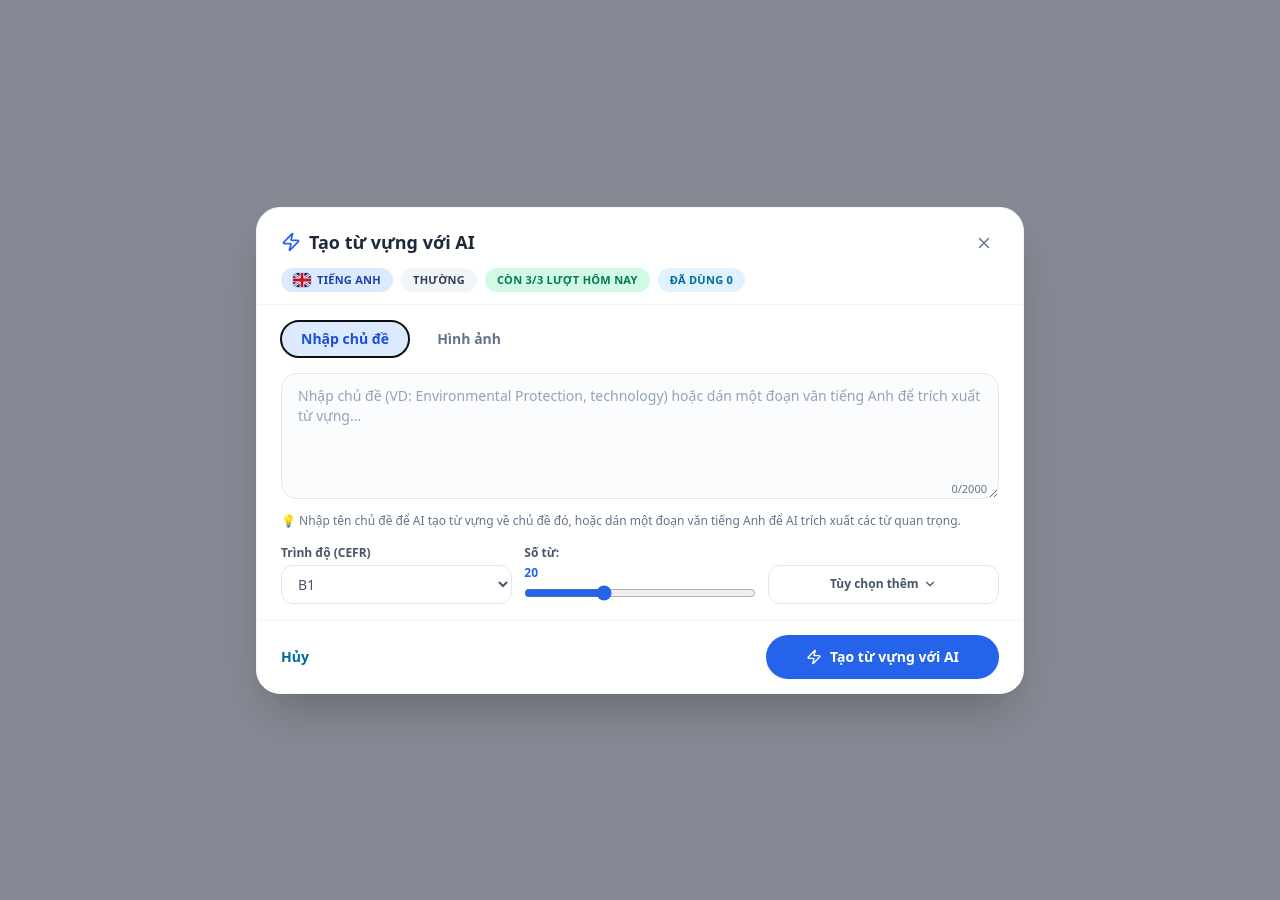
Test case: GenerateVocabModal › text mode is chosen automatically for long input
Check: the text "Còn 3/3 lượt hôm nay" is shown, box [485,268,650,292]
Replace the text in the text box with placeholder "Nhập chủ đề" with "Many companies are adopting renewable energy to reduce their carbon footprint today." at (640, 436), box [281,372,999,498]
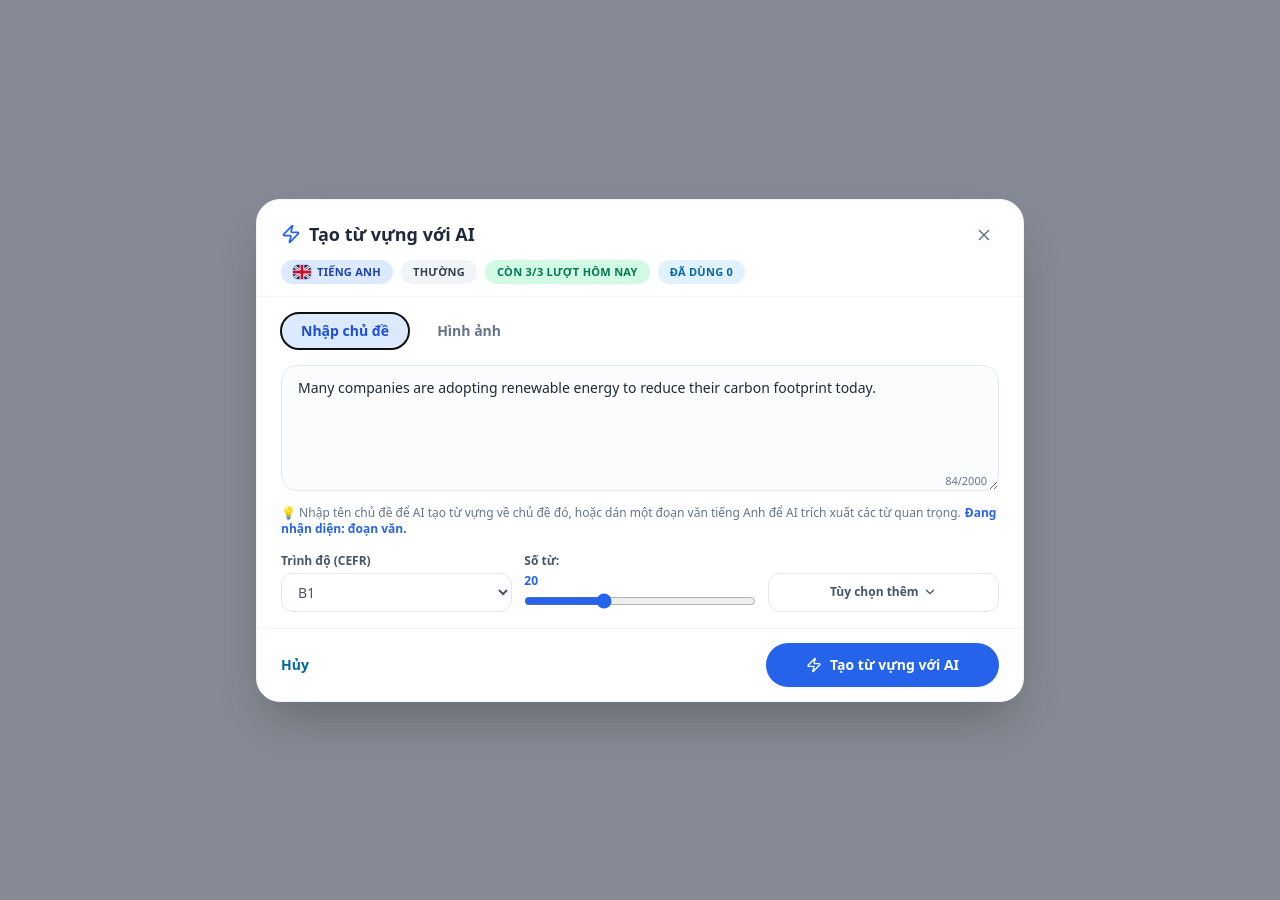
Check: the text "Đang nhận diện: đoạn văn." is shown, box [281,504,996,536]
Click the button "Tạo từ vựng với AI" at (883, 664), box [766,642,999,686]
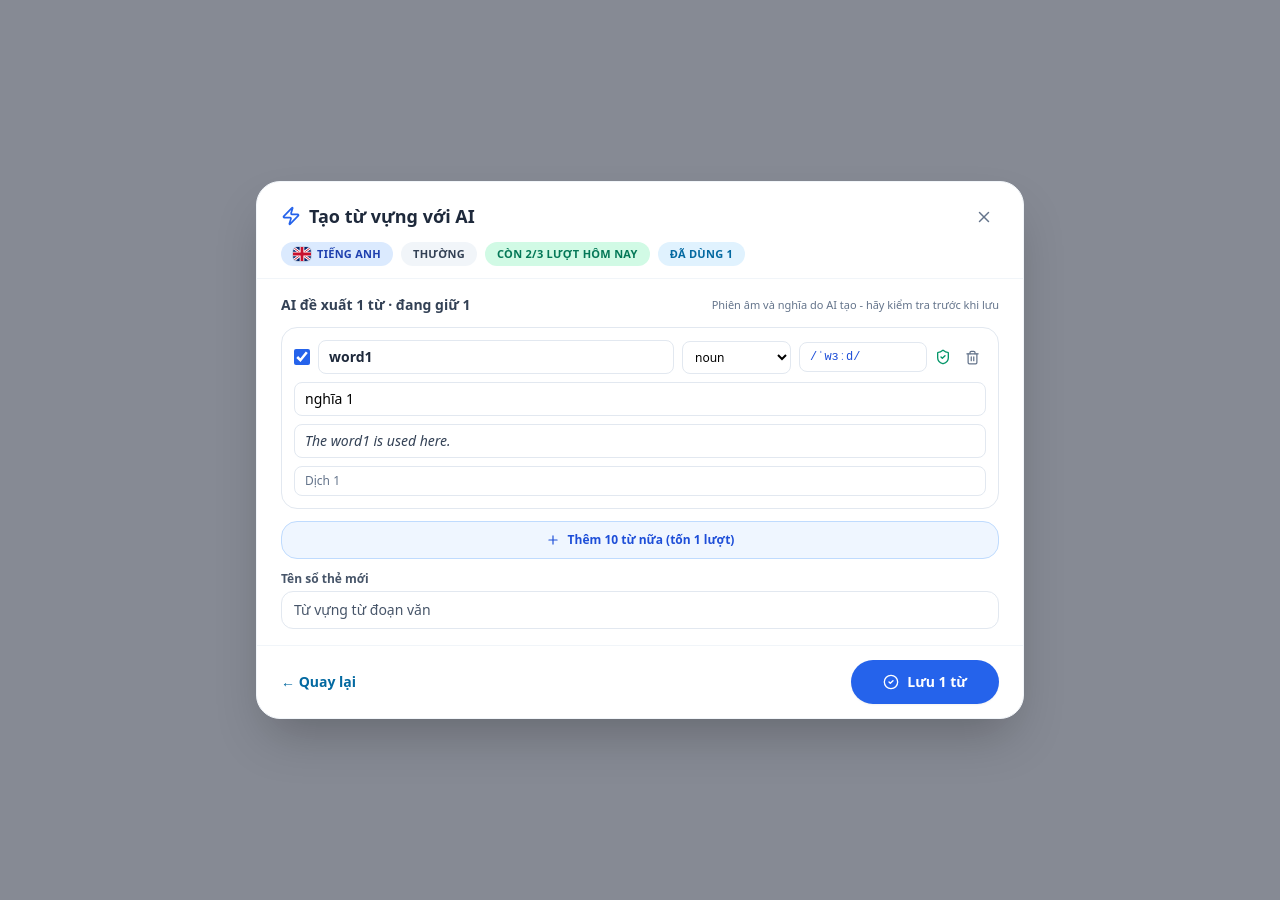
Check: the field showing "word1" is shown, box [318,340,674,374]
Check: the field showing "Từ vựng từ đoạn văn" is shown, box [281,591,999,629]
